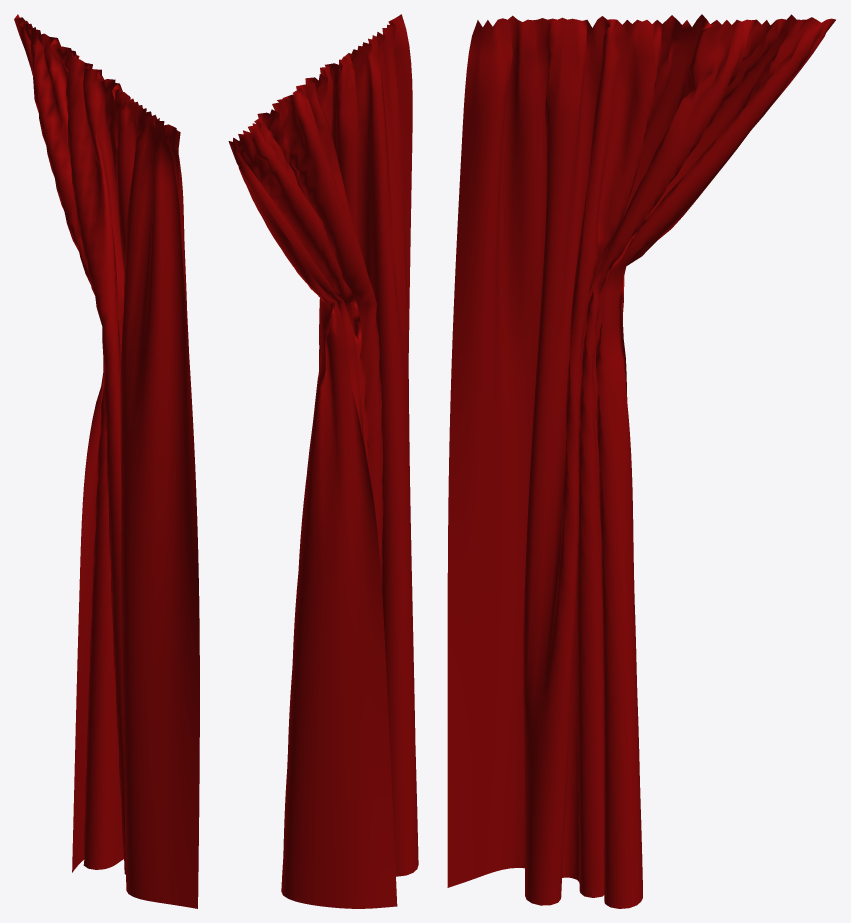
Rendered from side curtain.glb.
3 renders of one model, left to right at view 1: azimuth 30°, elevation 25°; view 2: azimuth 150°, elevation 25°; view 3: azimuth 270°, elevation 25°, orthographic. The views are drawn at different scales.
Visible parts, largest first — view 1: Side Curtain; view 2: Side Curtain; view 3: Side Curtain.
Boxes of the visible parts, <box> form: Side Curtain: <box>14,14,199,908</box>; Side Curtain: <box>228,14,418,908</box>; Side Curtain: <box>447,14,835,908</box>.
Size of the model in its own units: 1.45 by 11.15 by 4.53.
